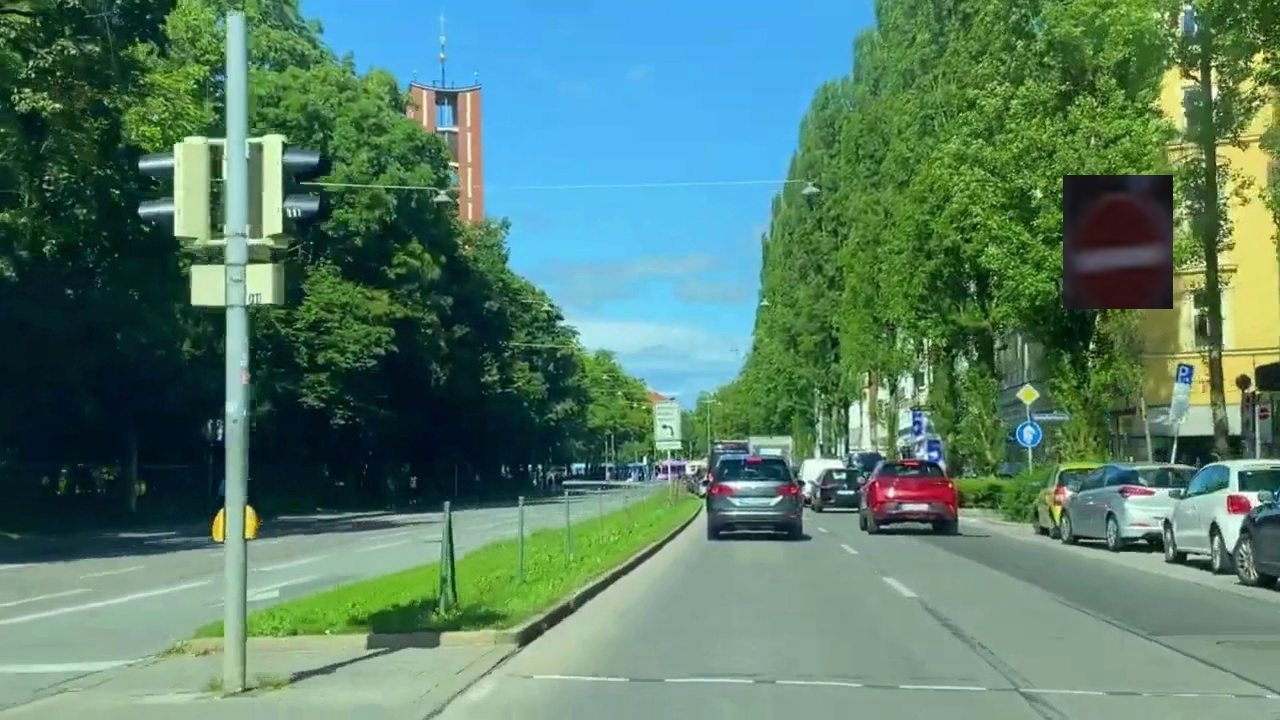No entry: (1063, 175, 1173, 309)
